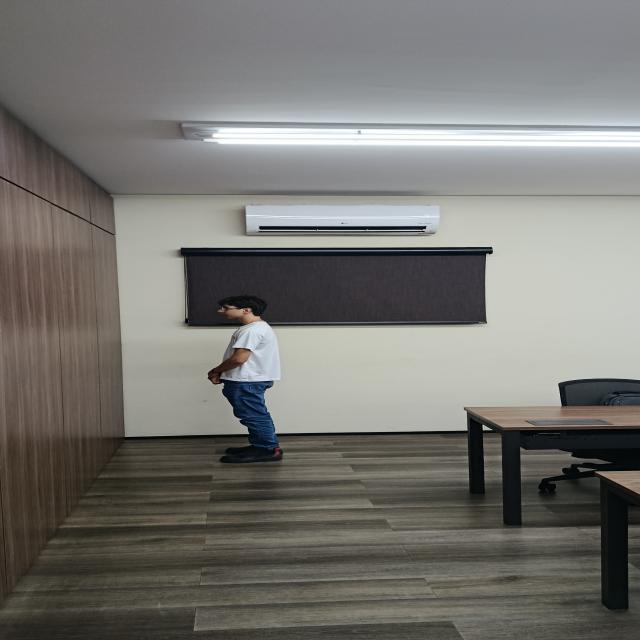sem_oculos: (221, 308, 241, 311)
